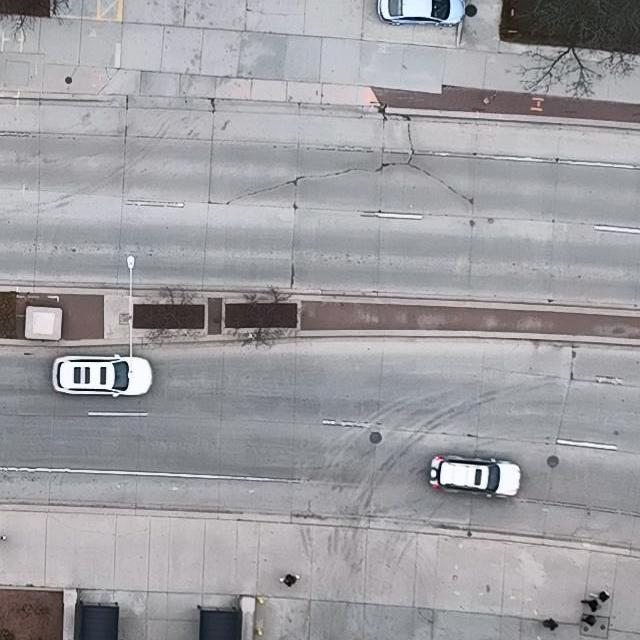car: (51, 354, 153, 398), (429, 454, 521, 498), (376, 0, 466, 27)
